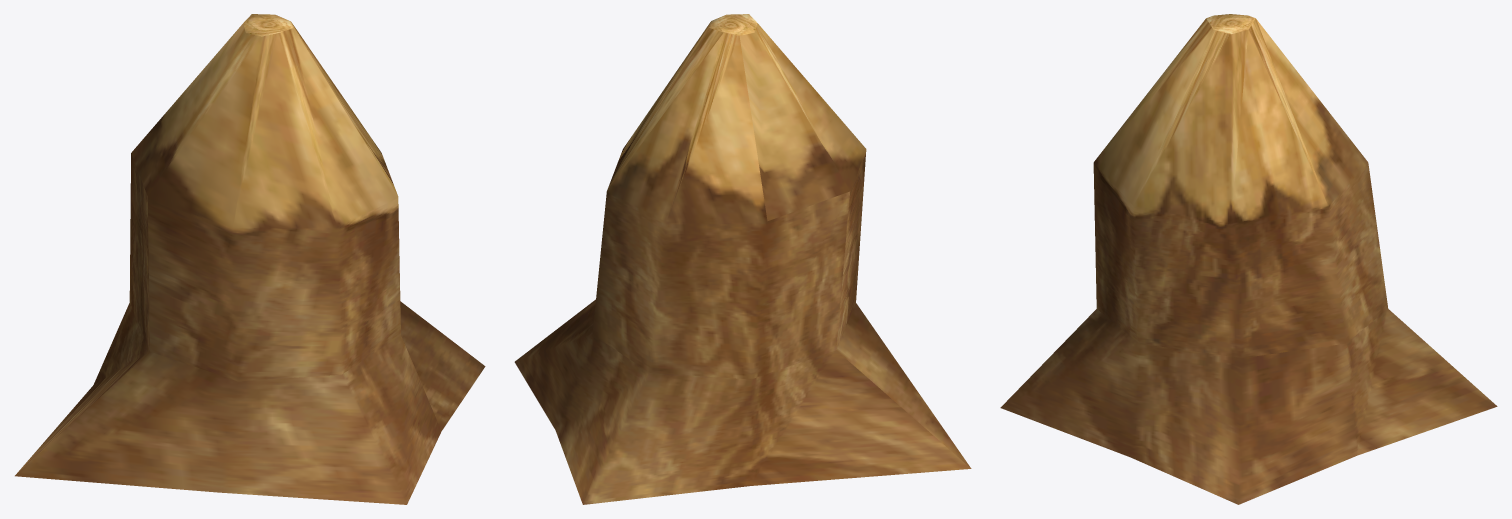
Rendered from obj_madaprtree07.glb.
The picture shows the model from 3 angles, left to right: view 1: azimuth 30°, elevation 25°; view 2: azimuth 150°, elevation 25°; view 3: azimuth 270°, elevation 25°; orthographic projection. The views are drawn at different scales.
Parts seen in each view (by area): view 1: part_0; view 2: part_0; view 3: part_0.
Boxes of the visible parts, x1,y1,x2,y2 form: part_0: [15, 14, 485, 504]; part_0: [514, 14, 971, 504]; part_0: [1000, 14, 1497, 504].
Bounding box in the file's own units: 2.47 × 2.01 × 2.37.
1 material, 1 textured.
